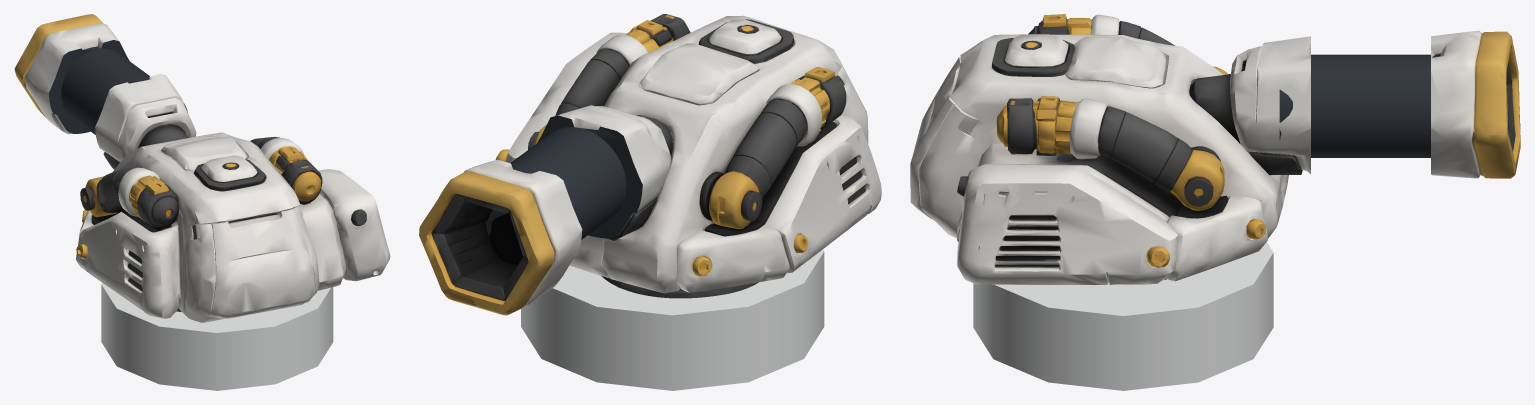
Rendered from scatter.glb.
3 views of the same model, side by side, from view 1: azimuth 30°, elevation 25°; view 2: azimuth 150°, elevation 25°; view 3: azimuth 270°, elevation 25° (orthographic). The views are drawn at different scales.
Parts seen in each view (by area): view 1: Body.023, ArmoredMount.013, Barrel.020, RecoilSleeve.008; view 2: Body.023, ArmoredMount.013, Barrel.020, RecoilSleeve.008; view 3: Body.023, ArmoredMount.013, RecoilSleeve.008, Barrel.020.
Part boxes in pixels (x1,y1,x2,y2): Body.023: (76,74,390,322); ArmoredMount.013: (101,282,333,390); Barrel.020: (14,14,129,134); RecoilSleeve.008: (61,46,187,134); Body.023: (495,14,881,298); ArmoredMount.013: (521,249,824,390); Barrel.020: (419,159,582,315); RecoilSleeve.008: (485,127,626,239); Body.023: (910,14,1310,284); ArmoredMount.013: (973,242,1273,390); RecoilSleeve.008: (1279,54,1439,157); Barrel.020: (1431,30,1520,178).
Bounding box in the file's own units: 1.03 × 0.8827 × 1.75.
3 materials, 1 textured.
